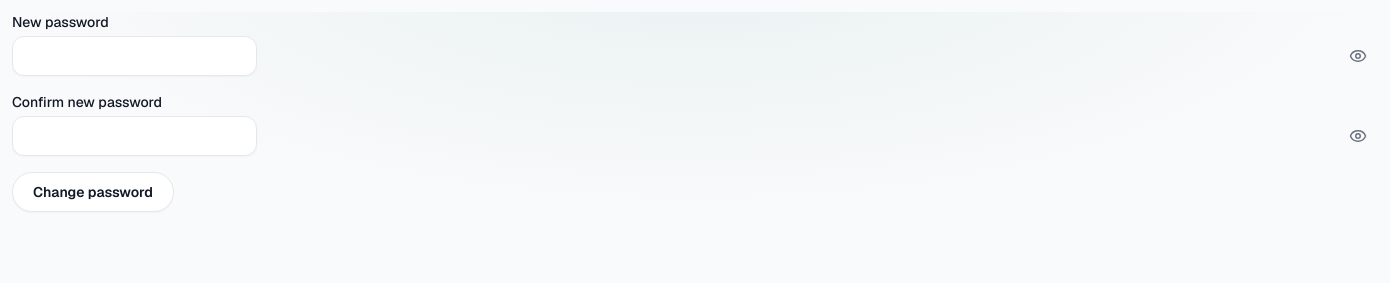
Scenario: ChangePasswordForm › shows a success message and clears the fields after a successful change
Type "correcthorse" into the password field labelled "New password" at (134, 56), box left=12, top=36, right=257, bottom=76
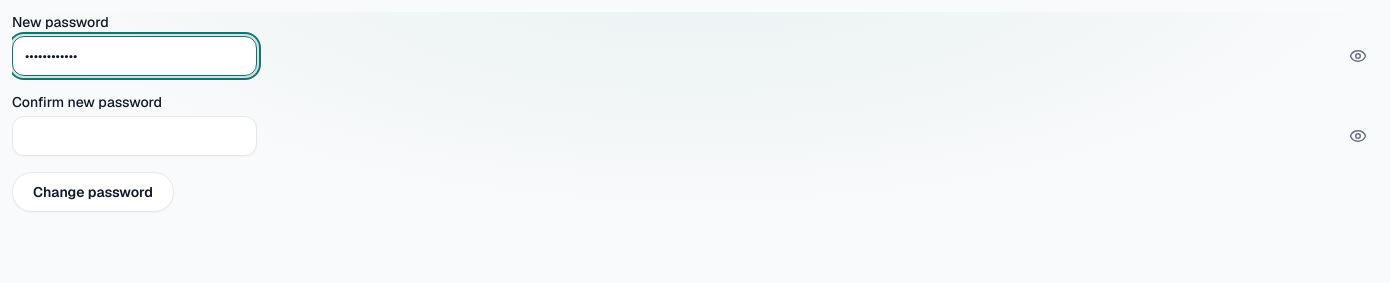
Type "correcthorse" into the password field labelled "Confirm new password" at (134, 136), box left=12, top=116, right=257, bottom=156
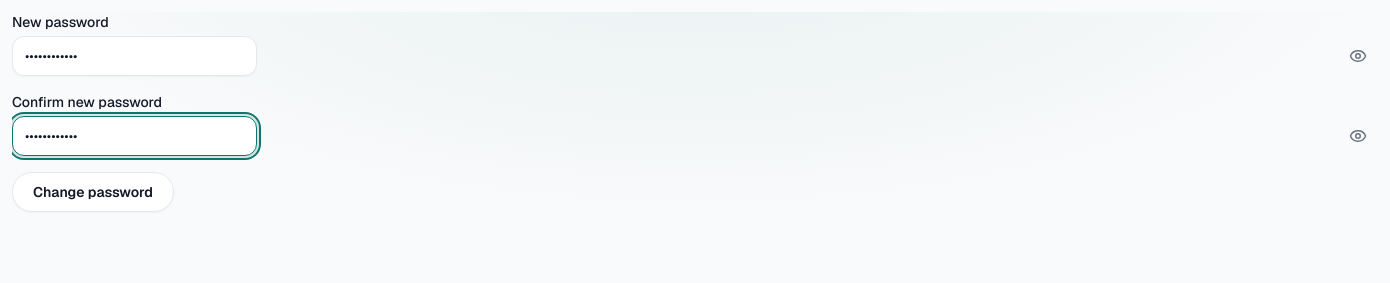
Click the button "Change password" at (93, 192), box left=12, top=172, right=174, bottom=212
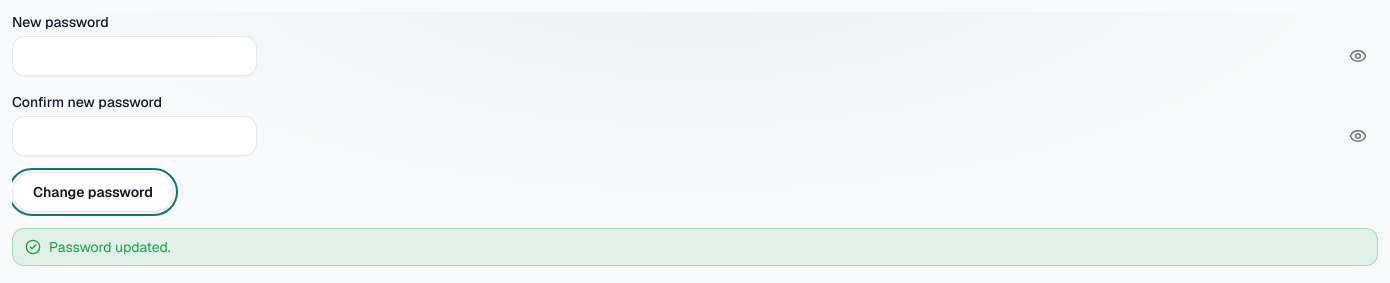
Check: the text "Password updated." is shown, box left=49, top=237, right=171, bottom=257
Check: the password field labelled "New password" is empty, box left=12, top=36, right=257, bottom=76
Check: the password field labelled "Confirm new password" is empty, box left=12, top=116, right=257, bottom=156
